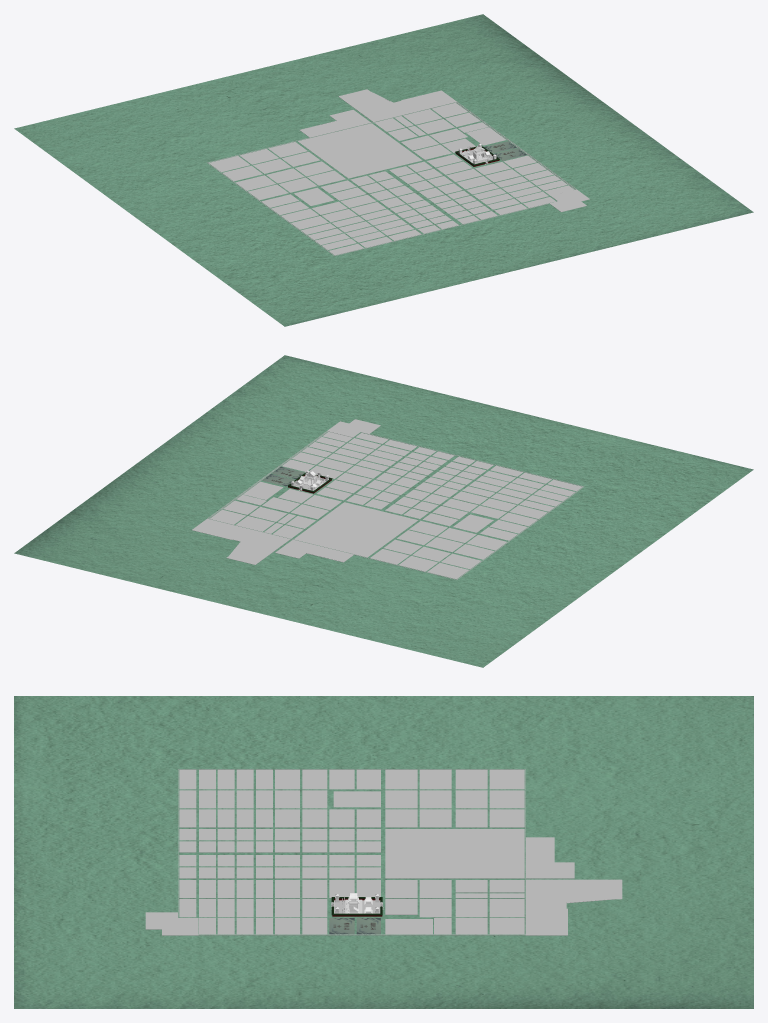
Rendered from shapan1.glb.
The picture shows the model from 3 angles, top to bottom: view 1: azimuth 30°, elevation 25°; view 2: azimuth 150°, elevation 25°; view 3: azimuth 270°, elevation 25°; orthographic projection. The views are drawn at different scales.
Visible parts, largest first — view 1: 平面, shapan; view 2: 平面, shapan; view 3: 平面, shapan.
Boxes of the visible parts, x1,y1,x2,y2 form: 平面: (14, 14, 753, 326); shapan: (207, 89, 589, 255); 平面: (14, 355, 753, 667); shapan: (192, 419, 584, 579); 平面: (14, 696, 753, 1008); shapan: (145, 769, 622, 935).
Size of what is drawn, in the model's own units: 18273 by 417 by 18273.
7 materials, 3 textured.
